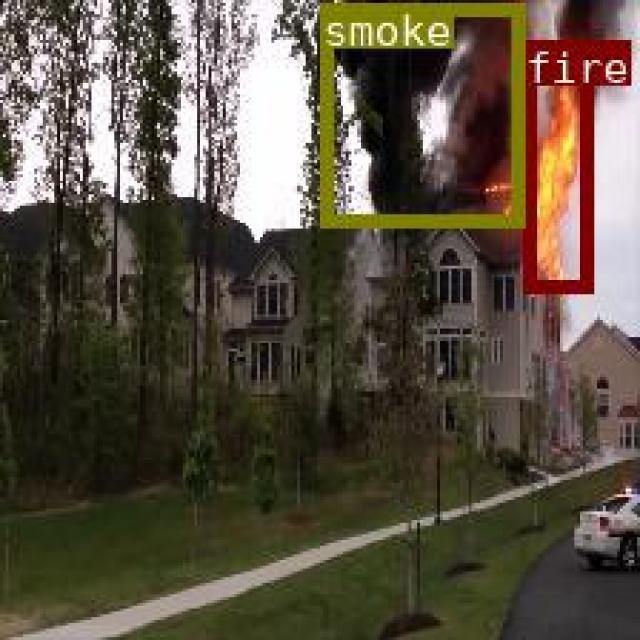fire: (521, 39, 590, 290)
smoke: (317, 0, 522, 223)
